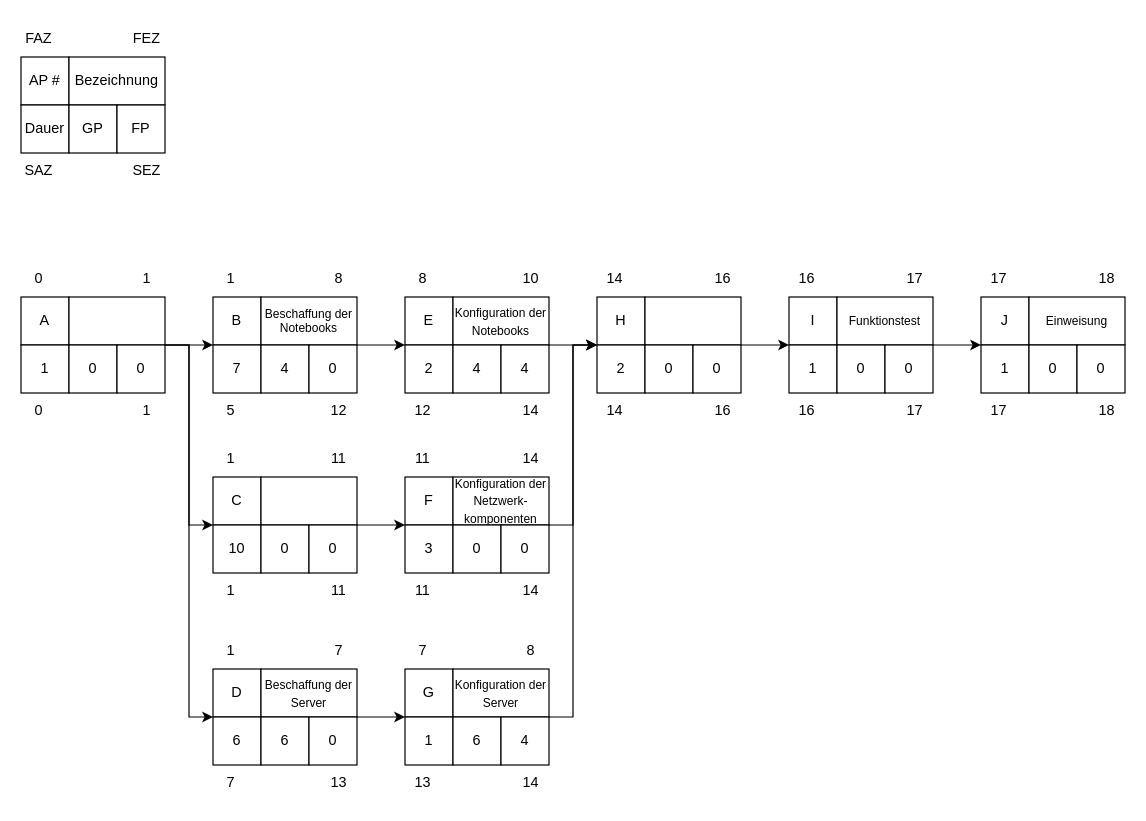
Some shapes in this 1146 by 821 pixel diagram are drawn without their labels. Each missing label, with the box of its shape:
Auswahl der Hardware: (68, 296, 165, 345)
Beschaffung der Netzwerk-komponenten: (260, 476, 357, 525)
Installation: (644, 296, 741, 345)
